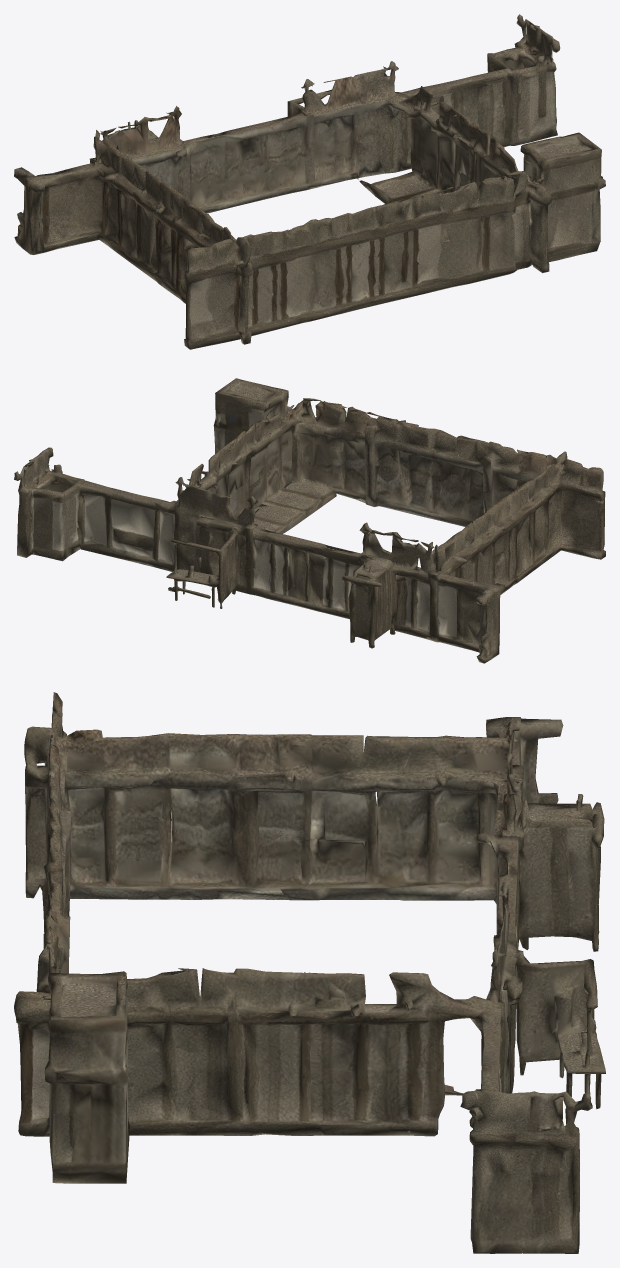
Rendered from badehaus.glb.
3 renders of one model, top to bottom at view 1: azimuth 30°, elevation 25°; view 2: azimuth 150°, elevation 25°; view 3: azimuth 270°, elevation 25°, orthographic. The views are drawn at different scales.
Bounding box in the file's own units: 1.9 × 0.3976 × 1.14.
Materials: 1 (1 with a texture image).
